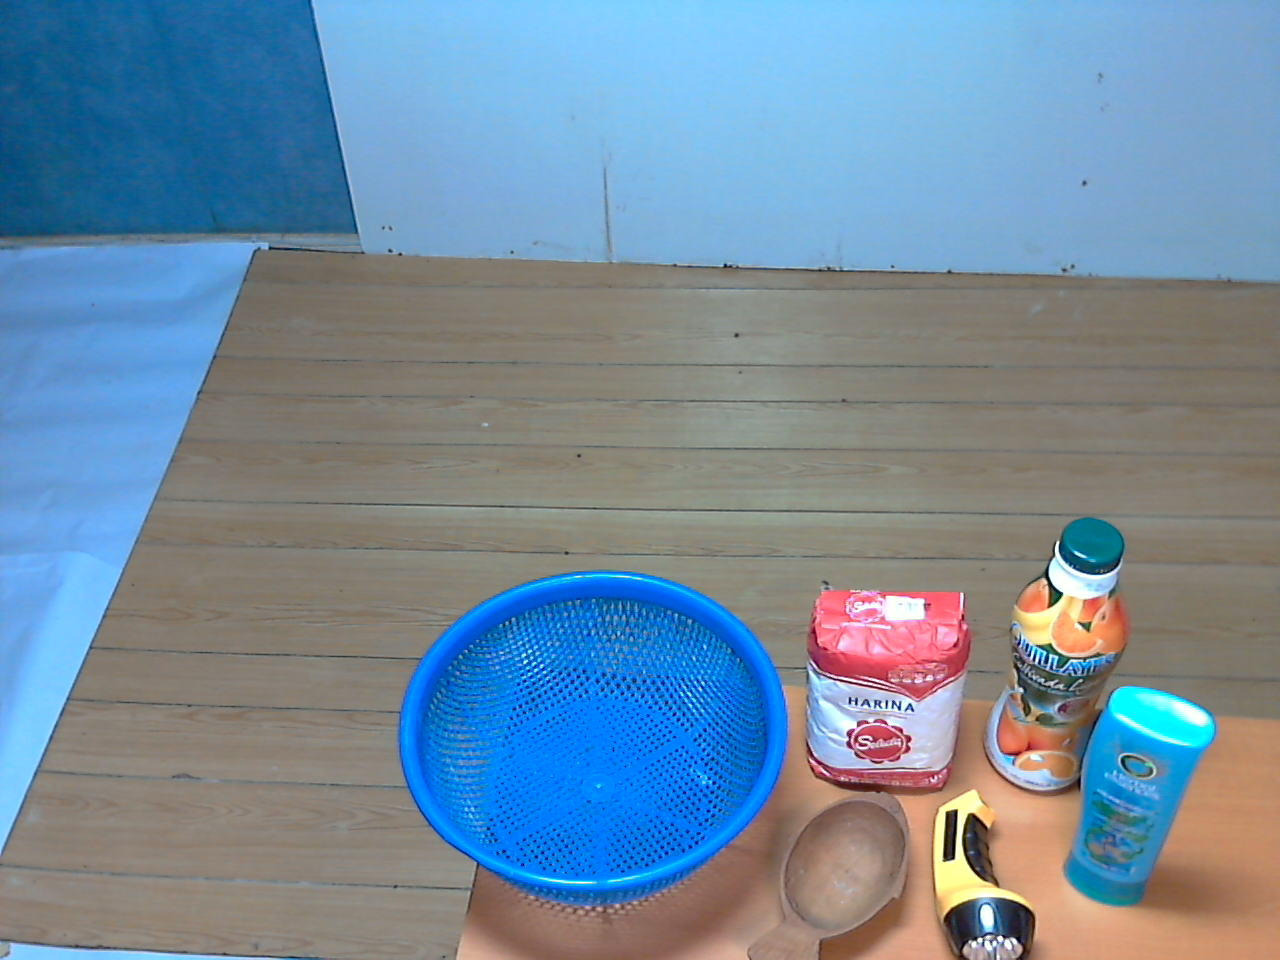balsamo: (1055, 682, 1224, 919)
colador: (382, 550, 798, 923)
harina: (794, 567, 979, 807)
linterna: (923, 779, 1048, 960)
pescado: (730, 782, 919, 960)
yogurt: (982, 513, 1148, 811)
